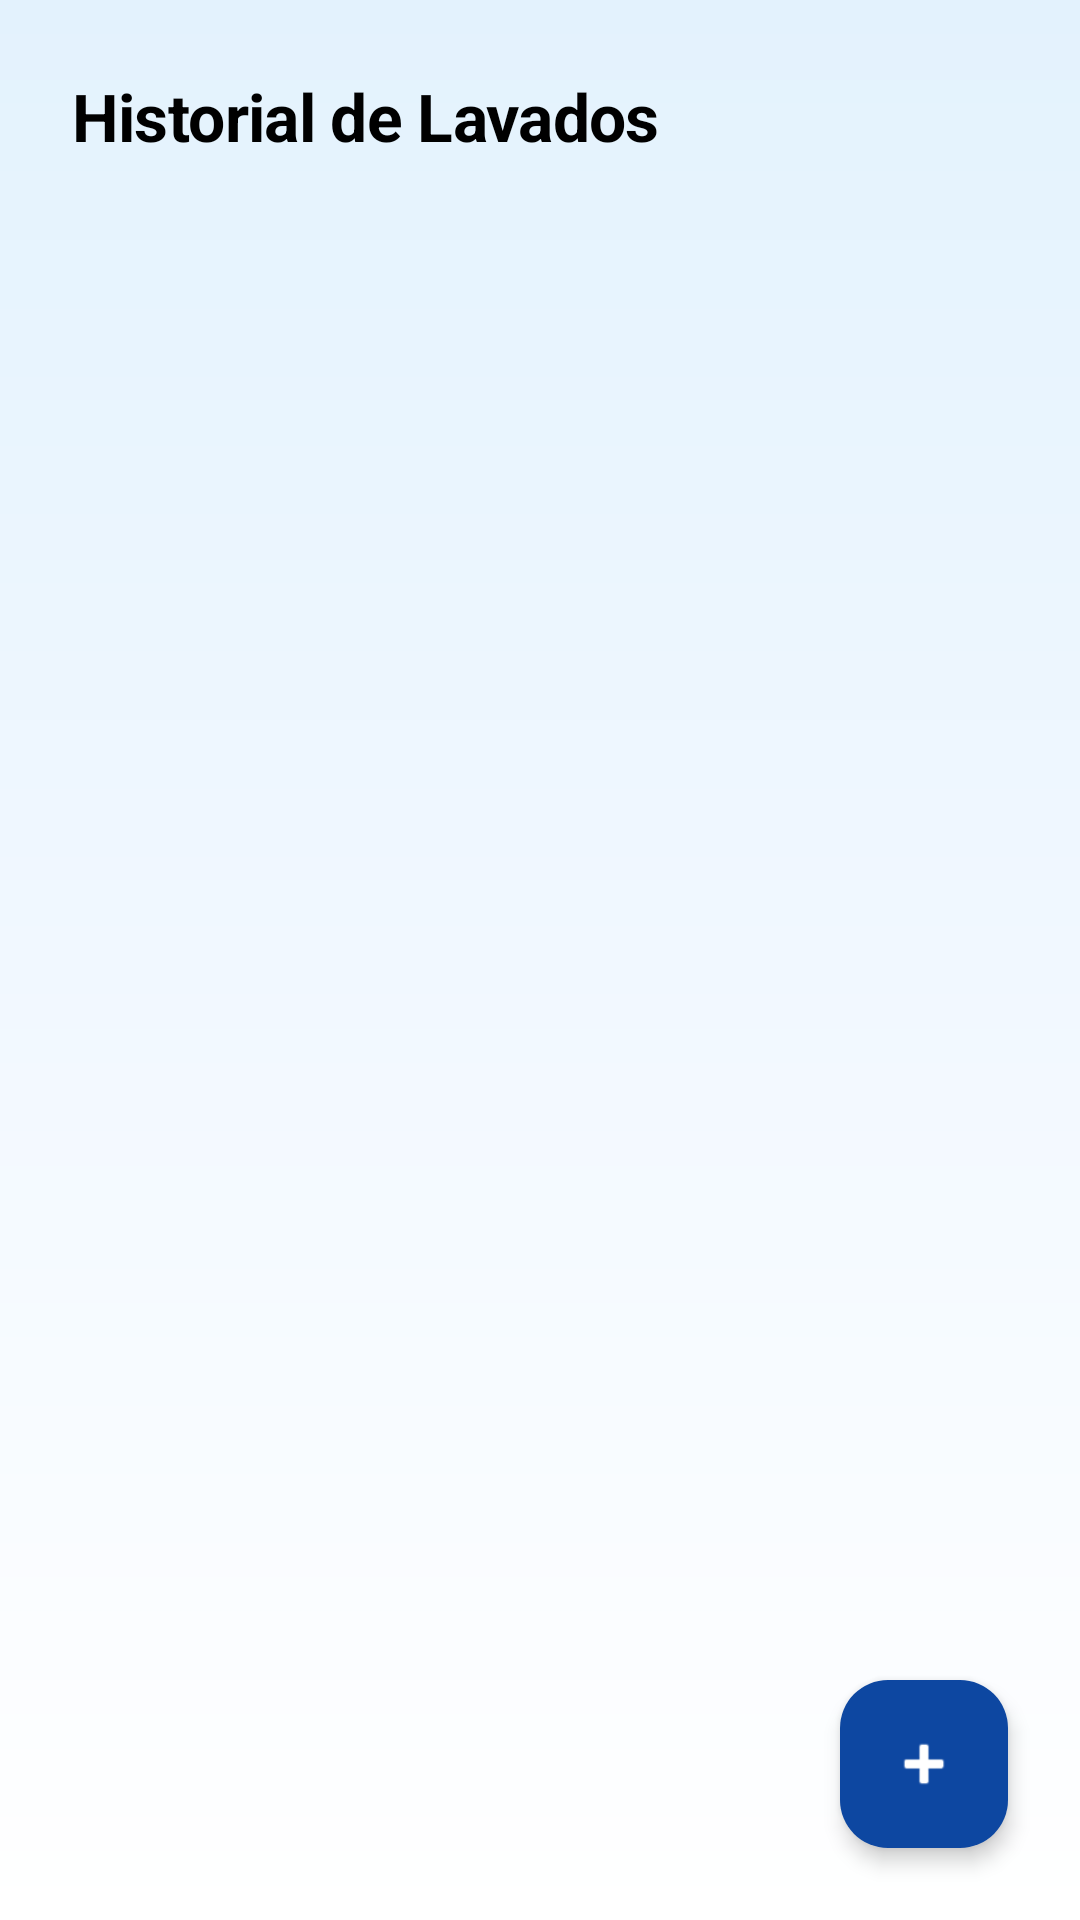

Icon click points for this 1080x1920 phone screenshot, format (x=x, y=y):
Agregar Lavado: (x=924, y=1764)
